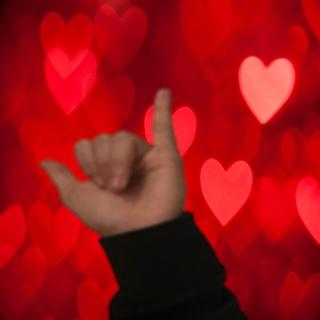HAVE: (32, 83, 193, 237)
